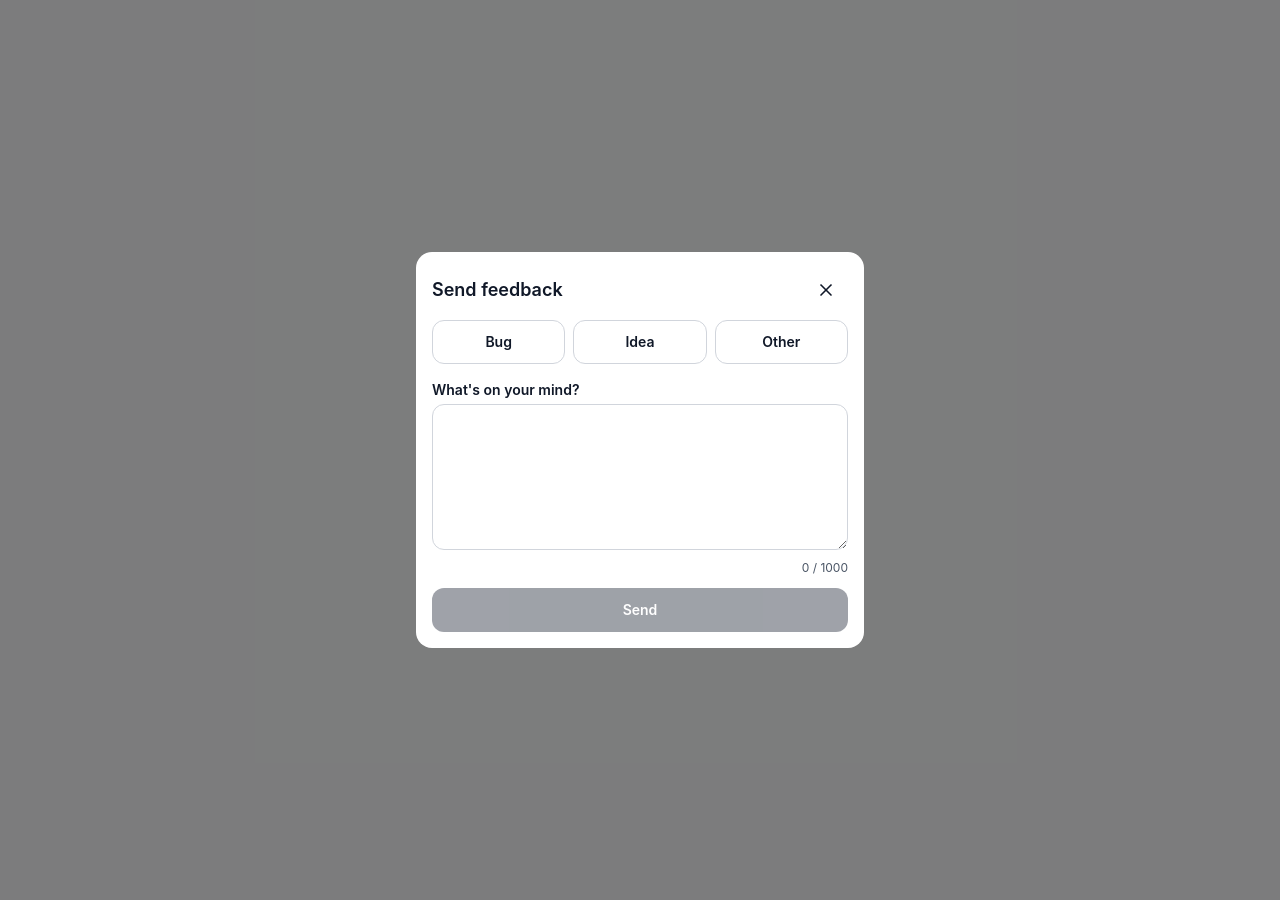
Test case: FeedbackDialog › explains the hourly limit
The image size is (1280, 900).
Click the button "Other" at [781, 342], box 715,320 -> 848,364
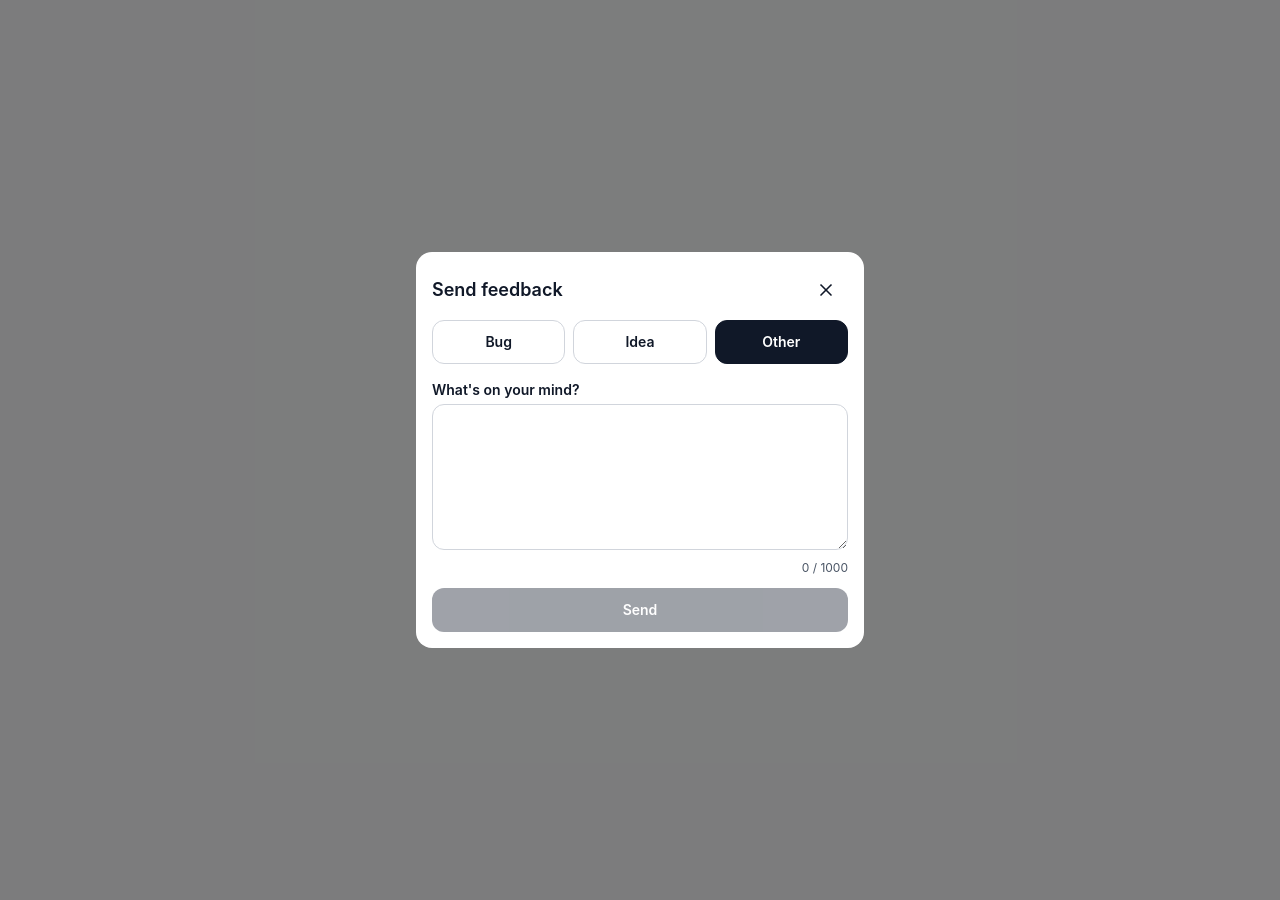
Type "Hello" into the text box labelled "What's on your mind?" at [640, 477], box 432,404 -> 848,550
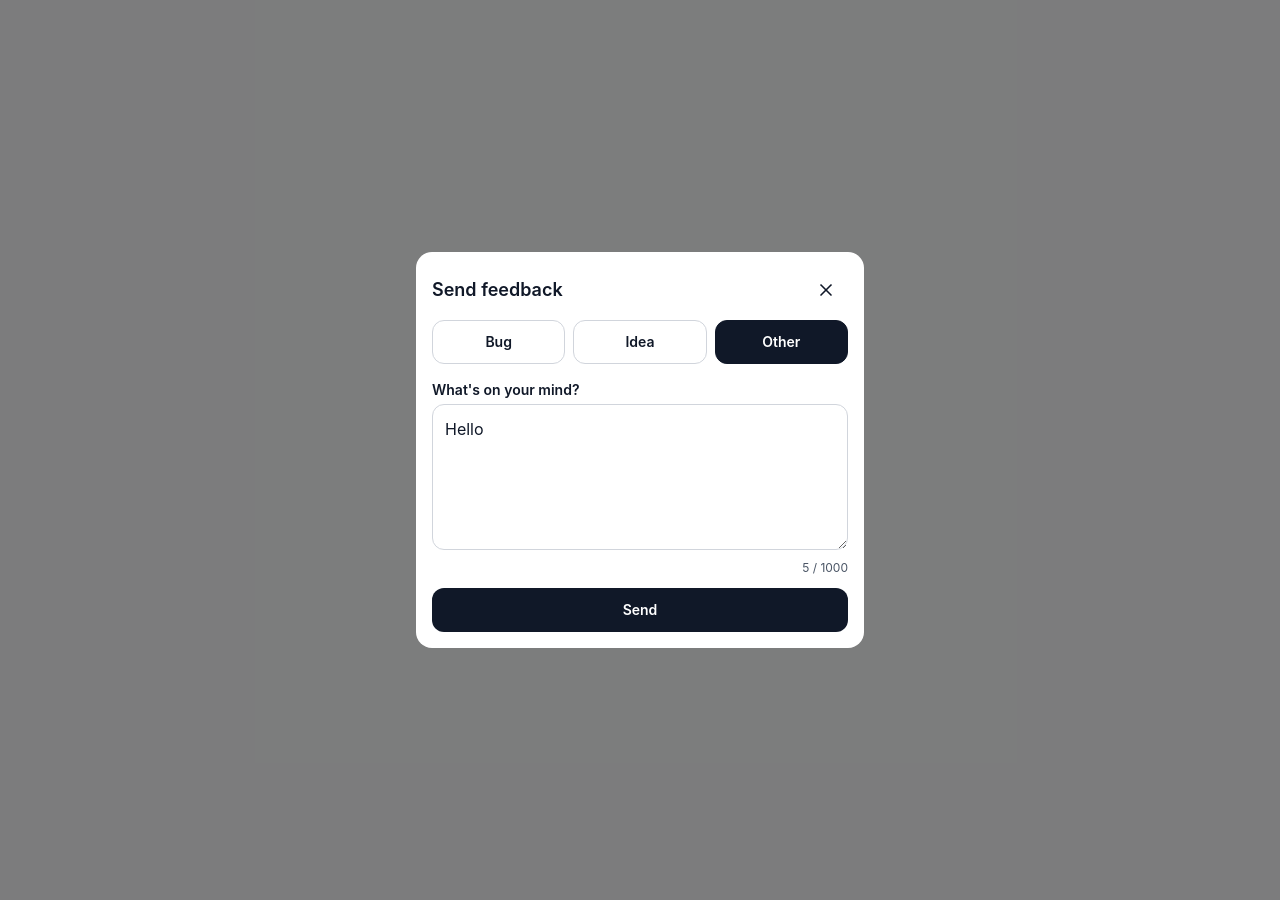
Click the button "Send" at [640, 610], box 432,588 -> 848,632
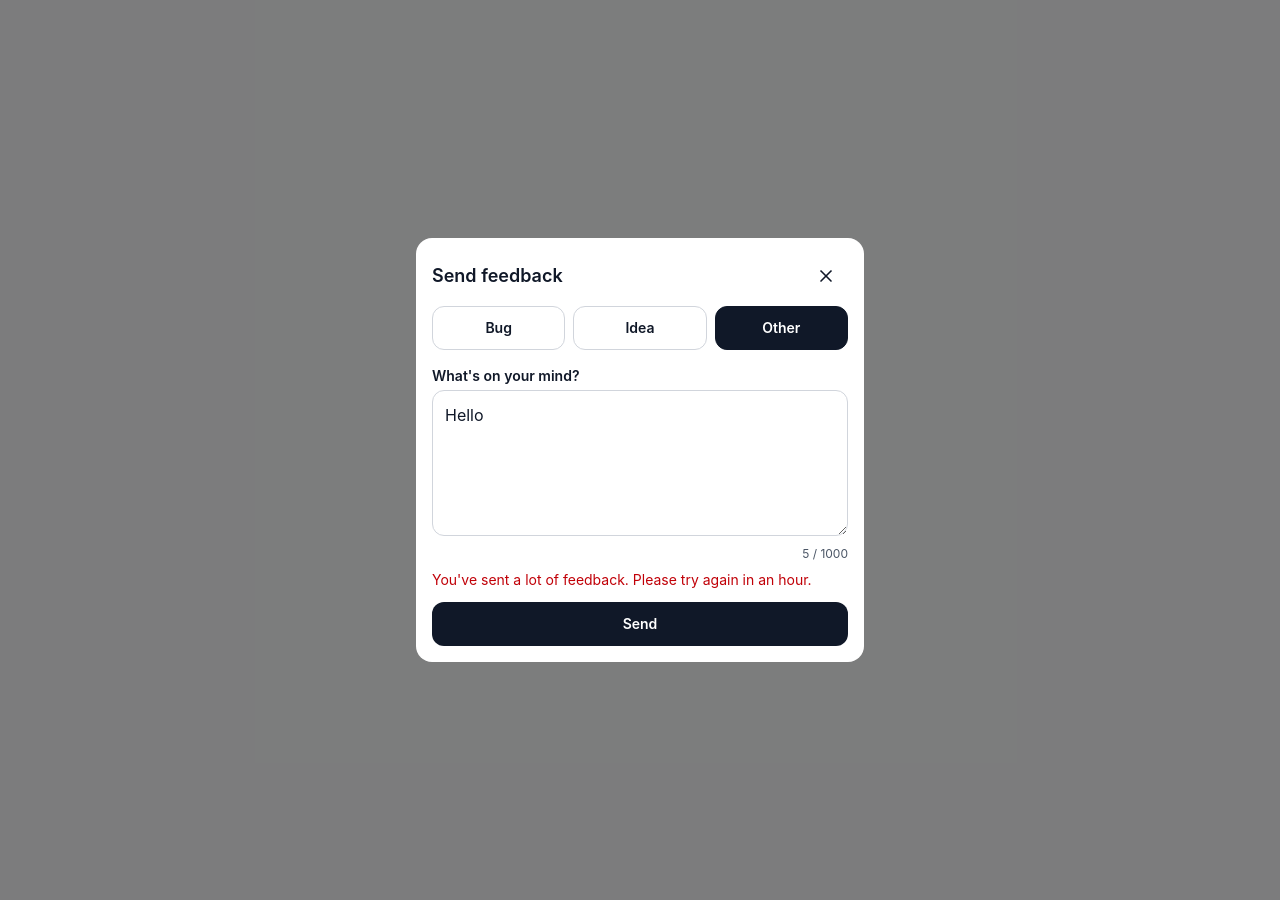
Expected: the text "You've sent a lot of feedback. Please try again in an hour." is shown, 432,570 -> 848,590
